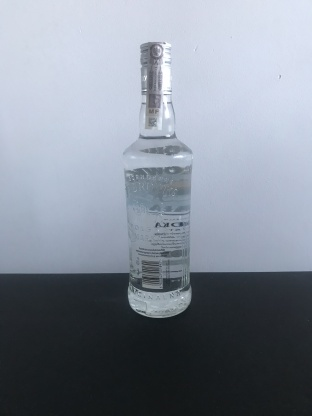nakretka: (138, 38, 174, 95)
